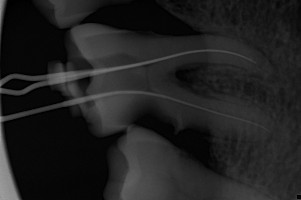Endo-Periodontal Lesion: (175, 66, 200, 89)
